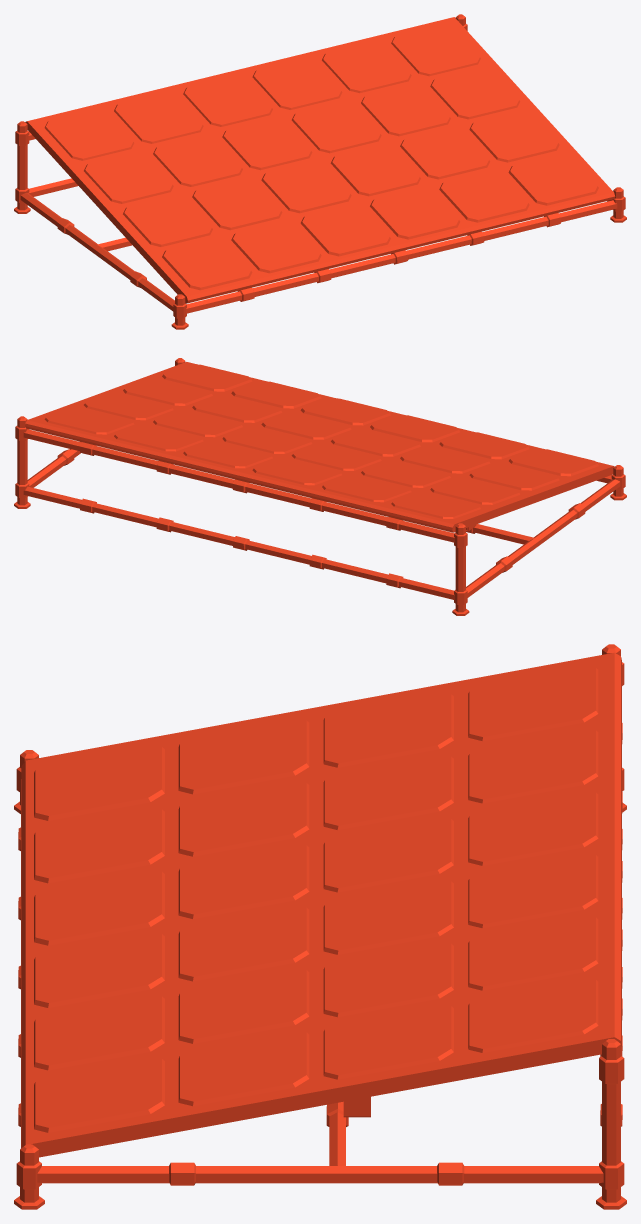
File: SM_Solar_Panel_B_City.fbx
3 renders of one model, top to bottom at view 1: azimuth 30°, elevation 25°; view 2: azimuth 150°, elevation 25°; view 3: azimuth 270°, elevation 25°, orthographic. The views are drawn at different scales.
Parts seen in each view (by area): view 1: SM_Solar_Panel_B_City; view 2: SM_Solar_Panel_B_City; view 3: SM_Solar_Panel_B_City.
Part boxes in pixels (box(x1,y1,x2,y2)): SM_Solar_Panel_B_City: box(14, 14, 626, 329); SM_Solar_Panel_B_City: box(14, 358, 626, 615); SM_Solar_Panel_B_City: box(14, 644, 626, 1209).
Size of the model in its own units: 3.19 by 0.5973 by 2.04.
